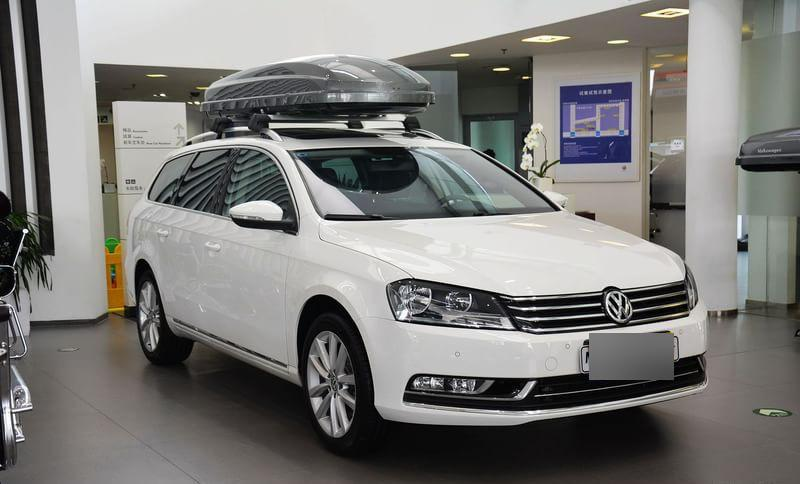Wagon: (121, 53, 711, 455)
